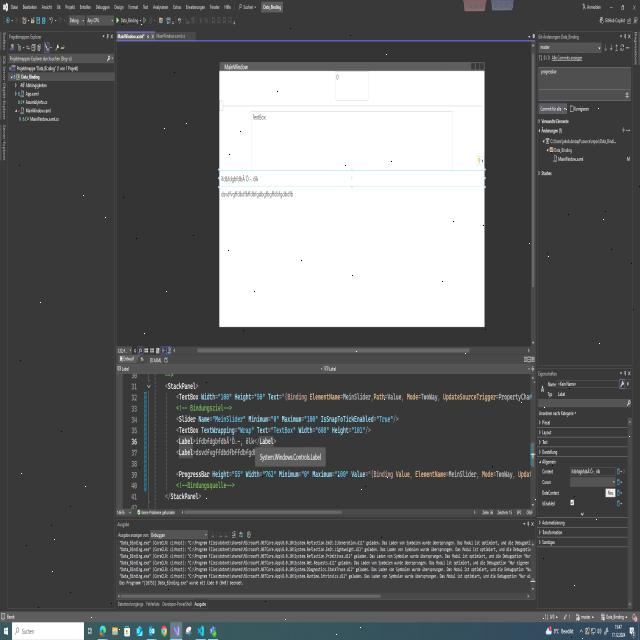input: (250, 109, 454, 177), (12, 621, 83, 640), (334, 68, 370, 103)
